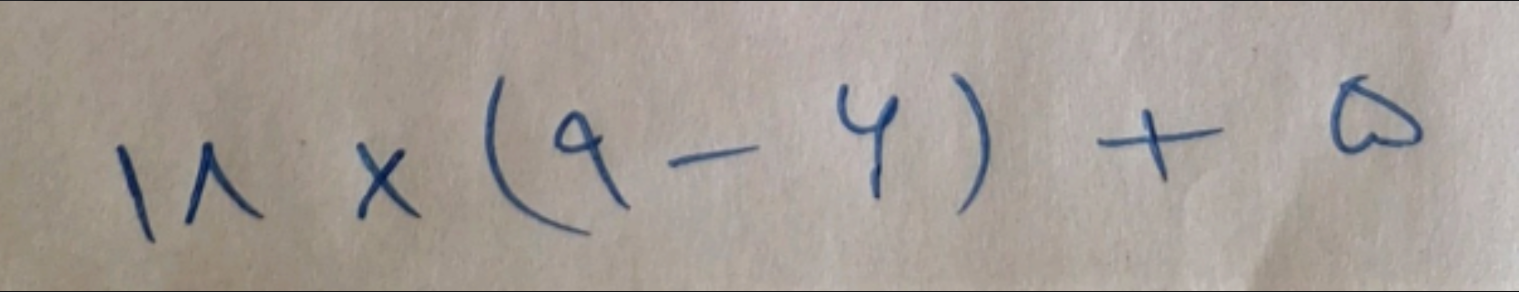character: (191, 24, 236, 112), (219, 32, 255, 87), (433, 42, 490, 73), (136, 49, 178, 91), (526, 28, 569, 65), (70, 54, 108, 93), (331, 28, 358, 82), (375, 25, 394, 86), (42, 55, 67, 100), (264, 54, 308, 74)
